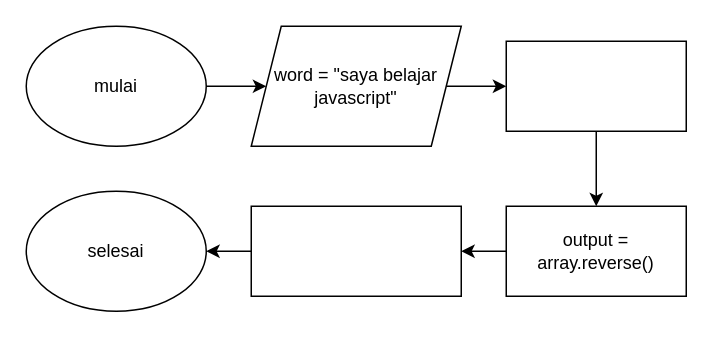
This 713x338 diagram has some shape labels left out. The shapes that lost their labels are listed below. From the top down, each one's centre as x and y in pixels, then its label:
(595,85): array = word.split(' ')
(355,250): return output.join(' ') "javascript belajar saya"
